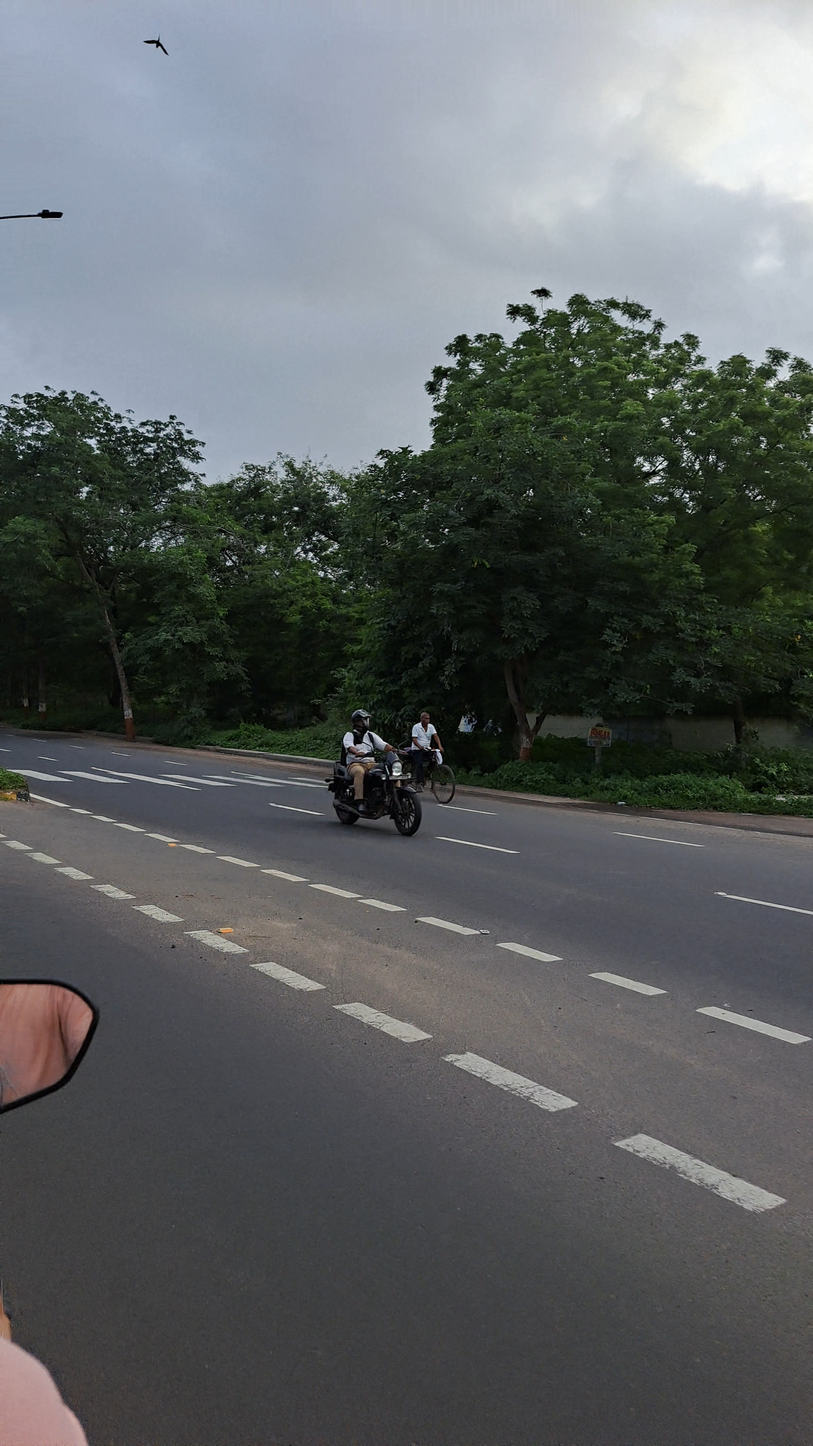BikeWithRider: (323, 709, 424, 837)
Helmet: (350, 709, 375, 734)
